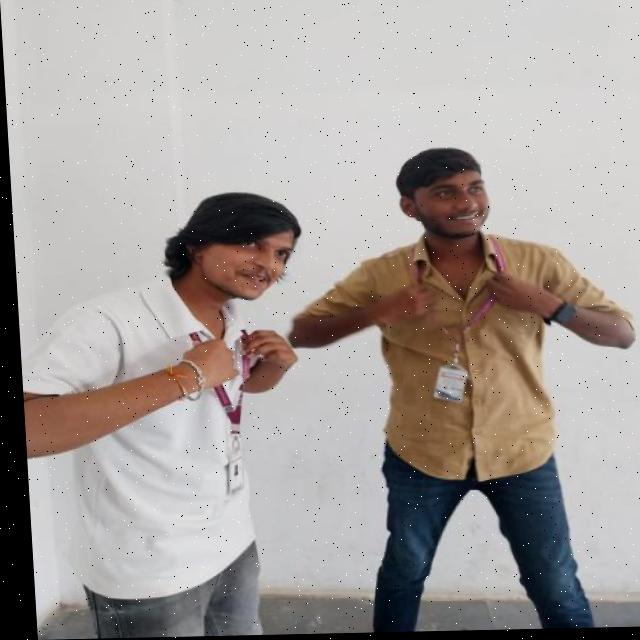id_card: (401, 251, 508, 409), (174, 315, 255, 504)
